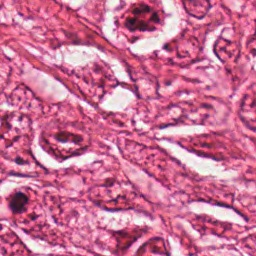mitosis: (78, 94, 88, 104)
